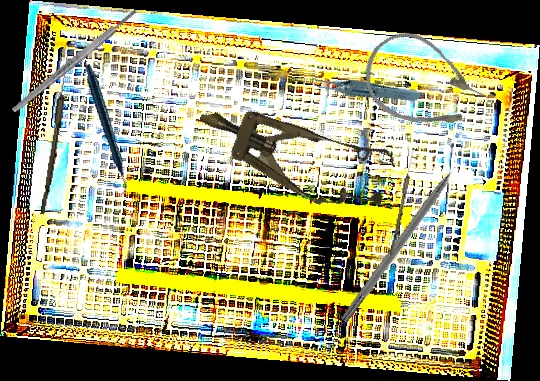Cannula: (350, 19, 495, 150)
Handpiece: (48, 63, 162, 196)
Hook Surgical: (339, 151, 471, 325)
Scalpel Handle: (10, 7, 139, 115)
Speculum: (186, 79, 401, 226)
Surgical Spoon: (40, 54, 71, 216), (389, 147, 416, 256)
Tissue Forceps: (305, 50, 422, 124)
